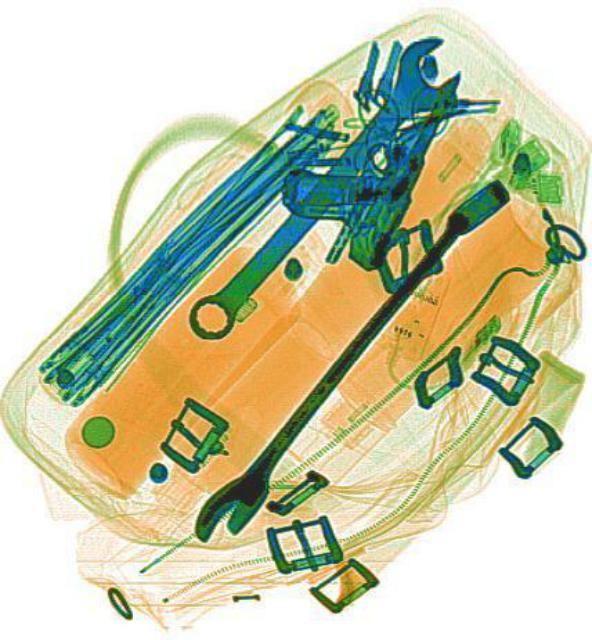Gun: (261, 23, 461, 270)
Wrench: (179, 164, 516, 556), (167, 21, 474, 356)
